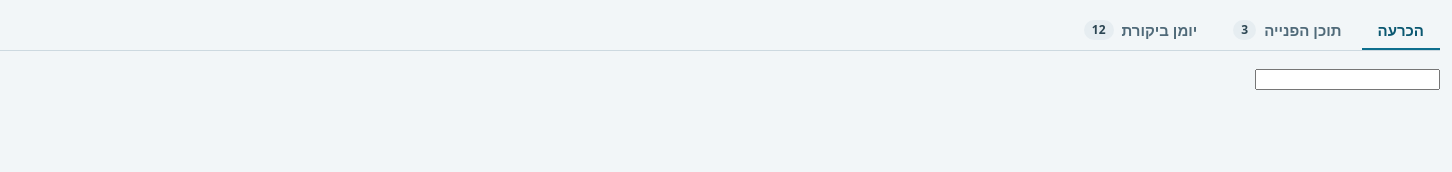
it: Tabs › switches panels on click and reports the choice
Click the tab "יומן ביקורת 12" at (1141, 32), box [1068, 12, 1213, 51]
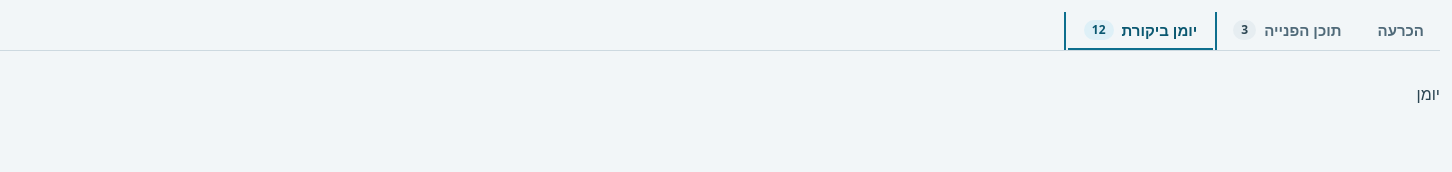
Check: the text "יומן" is shown, box [1416, 83, 1440, 105]
